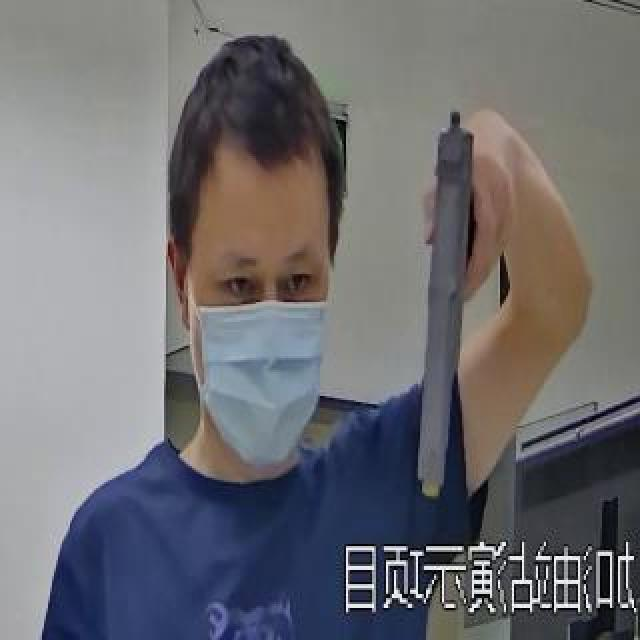Guns: (398, 77, 536, 517)
